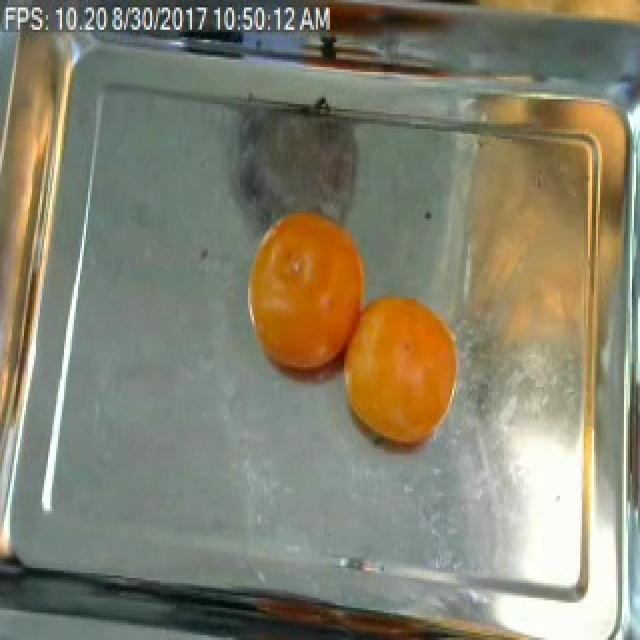Fruit: (330, 276, 466, 477), (236, 196, 380, 384), (232, 92, 382, 226)
